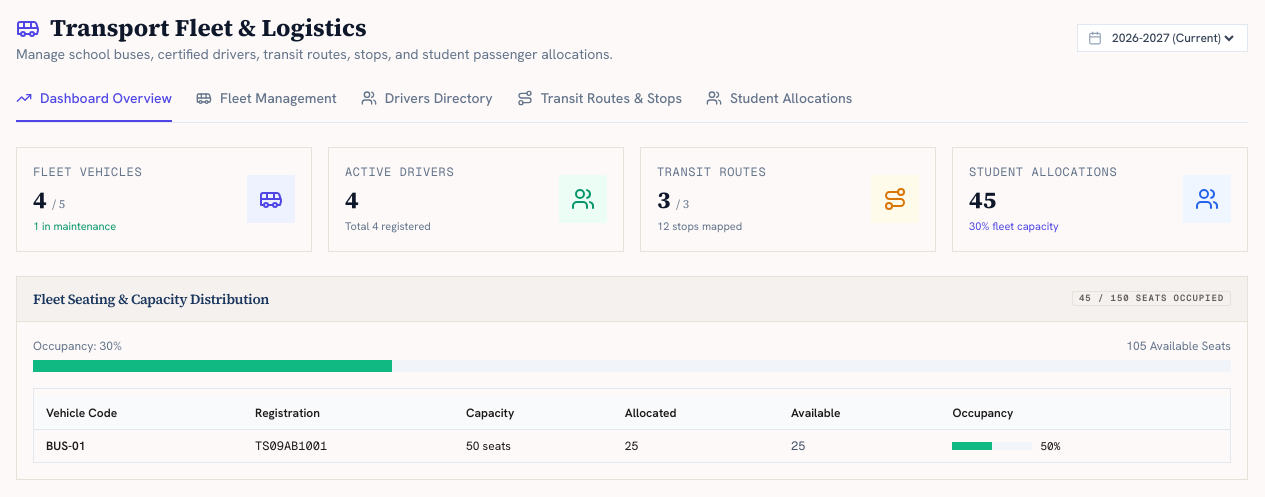
Test case: TransportPage Component › 4. Switches to Drivers tab and renders driver list
Click the button "Drivers Directory": x=427, y=105 x1=361 y1=88 x2=493 y2=122
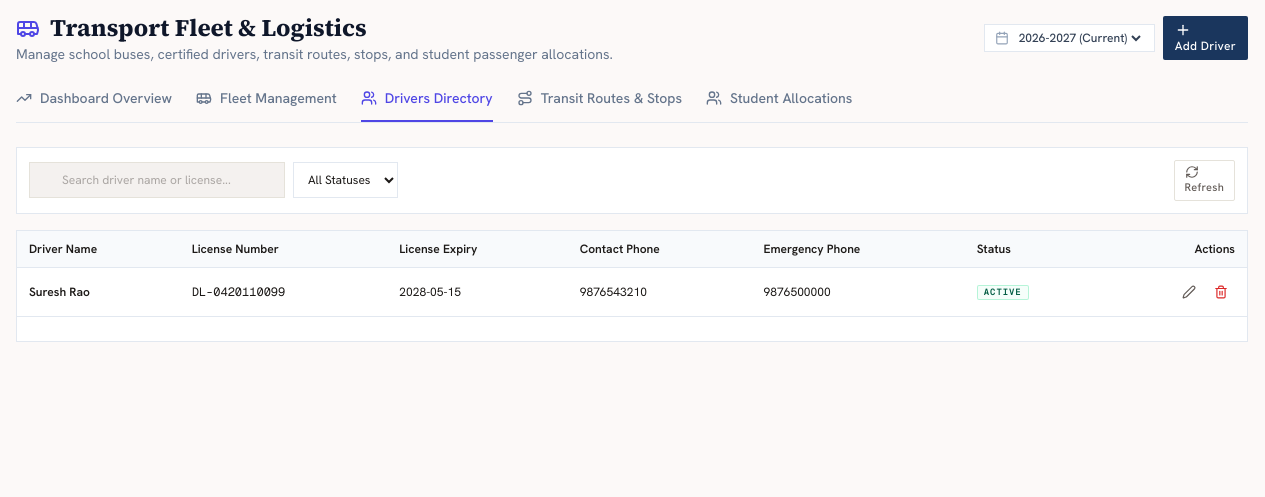
Expected: the text "Suresh Rao" is shown, x1=17 y1=267 x2=180 y2=316
Expected: the text "DL-0420110099" is shown, x1=180 y1=267 x2=387 y2=316
Expected: the text "9876543210" is shown, x1=568 y1=267 x2=752 y2=316
